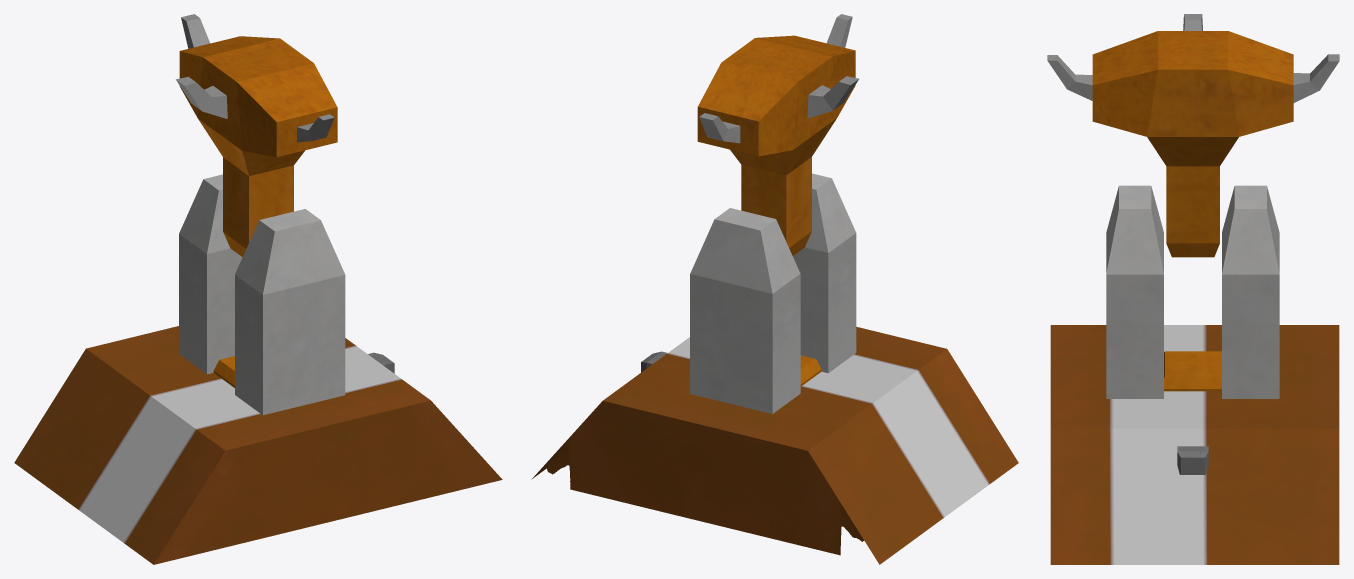
File: torrenormal3.fbx
The picture shows the model from 3 angles, left to right: view 1: azimuth 30°, elevation 25°; view 2: azimuth 150°, elevation 25°; view 3: azimuth 270°, elevation 25°; orthographic projection. The views are drawn at different scales.
Visible parts, largest first — view 1: Base, Torre; view 2: Base, Torre; view 3: Base, Torre.
Part boxes in pixels (box(x1,y1,x2,y2)): Base: box(14, 14, 502, 564); Torre: box(213, 352, 394, 387); Base: box(531, 14, 1018, 564); Torre: box(641, 351, 821, 386); Base: box(1047, 14, 1339, 564); Torre: box(1164, 351, 1221, 474).
Size of the model in its own units: 280 by 316 by 197.
